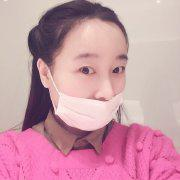WRONG: (49, 51, 126, 128)
